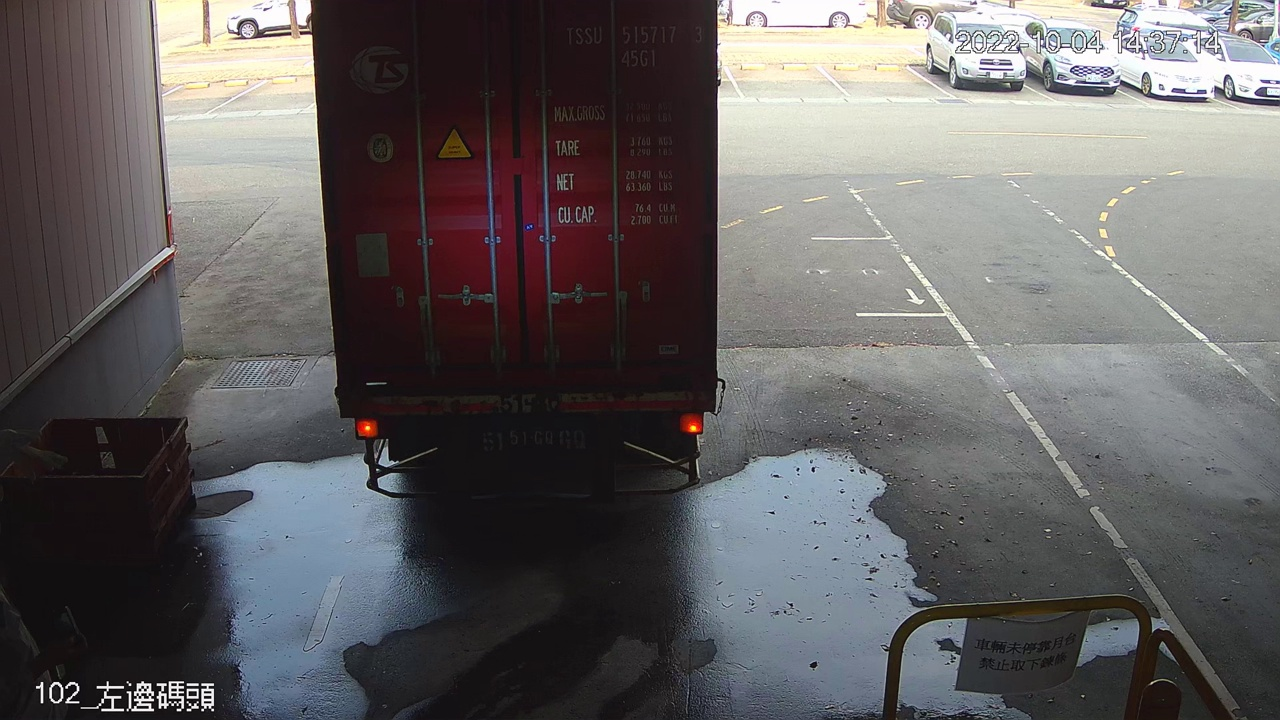container: (560, 17, 710, 76)
